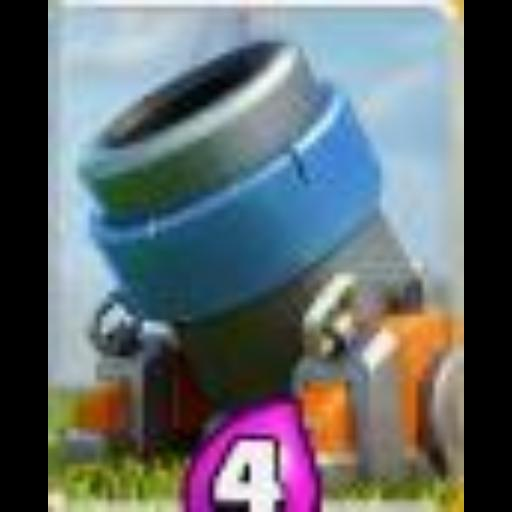mortar: (52, 2, 464, 512)
